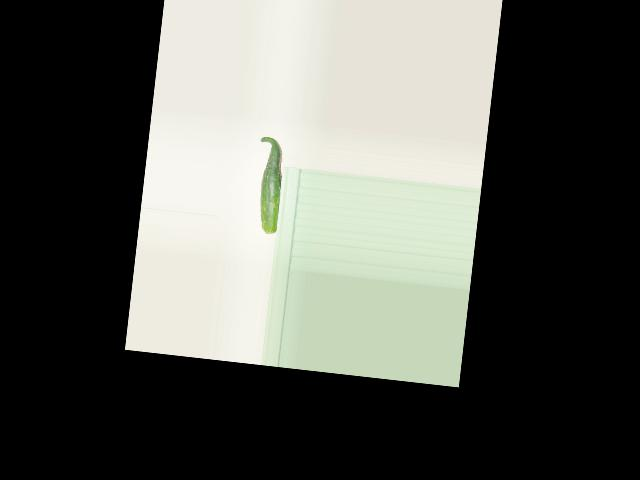cucumber: (250, 135, 286, 234)
